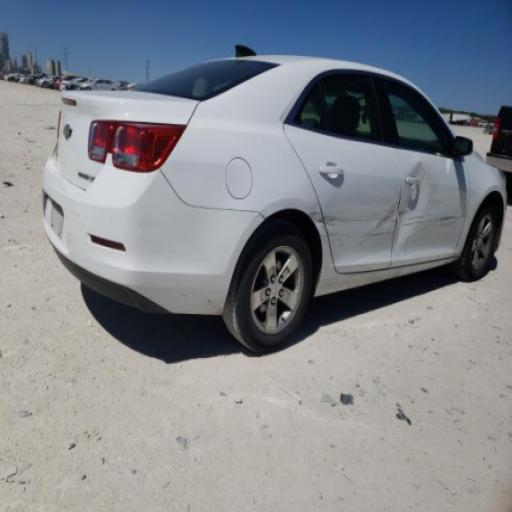dent: (394, 158, 434, 237)
scratch: (310, 208, 394, 244), (396, 207, 466, 238)
